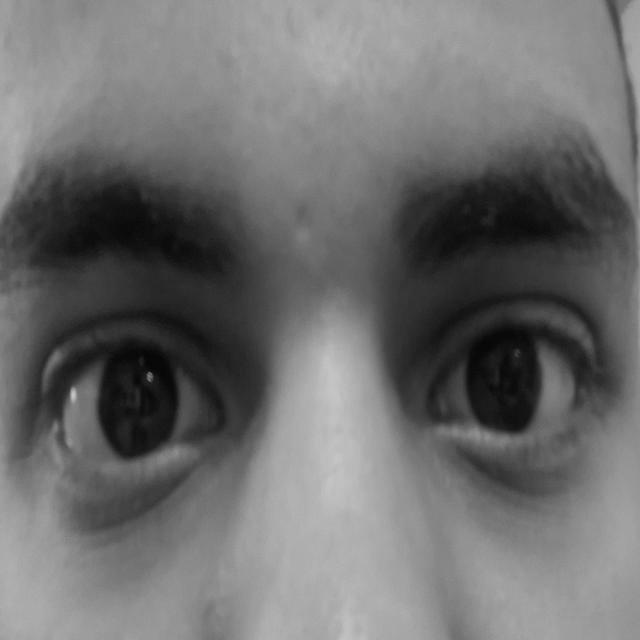real: (7, 104, 628, 600)
